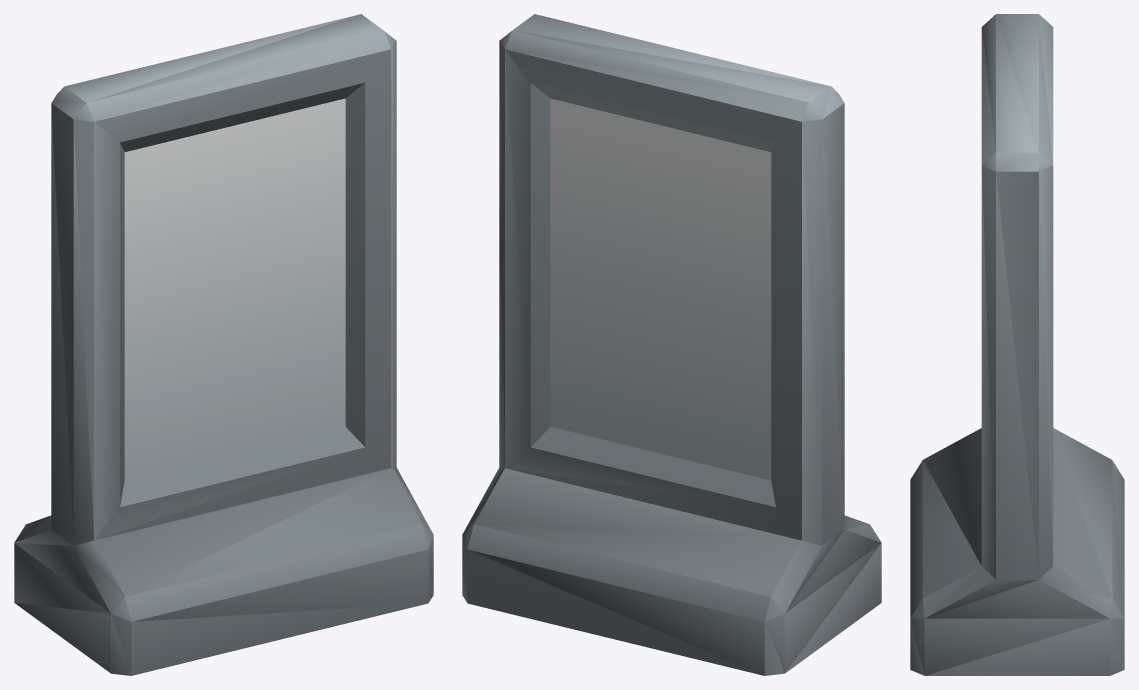
The model's file is menu_board.fbx.
The picture shows the model from 3 angles, left to right: view 1: azimuth 30°, elevation 25°; view 2: azimuth 150°, elevation 25°; view 3: azimuth 270°, elevation 25°; orthographic projection. The views are drawn at different scales.
Visible parts, largest first — view 1: menu_board; view 2: menu_board; view 3: menu_board.
Boxes of the visible parts, x1,y1,x2,y2 form: menu_board: (14, 14, 433, 675); menu_board: (462, 14, 881, 675); menu_board: (910, 14, 1124, 675).
Size of the model in its own units: 0.1875 by 0.3 by 0.1125.
1 material, 1 textured.
